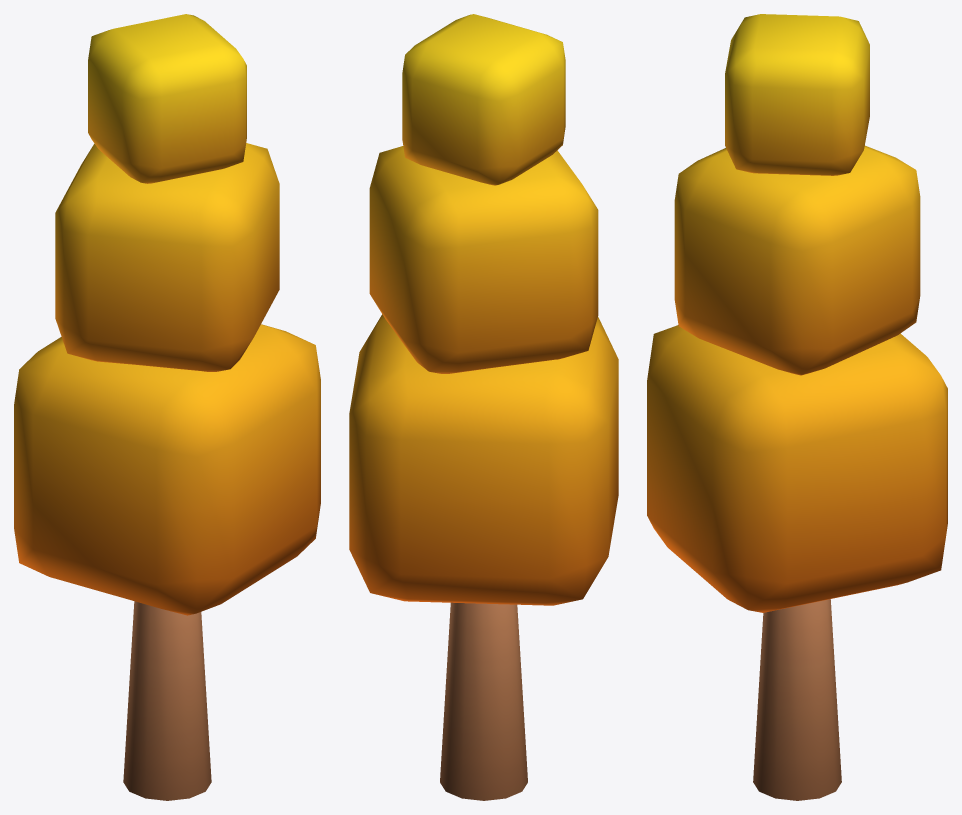
The model's file is lpb_tree_6_b.fbx.
The picture shows the model from 3 angles, left to right: view 1: azimuth 30°, elevation 25°; view 2: azimuth 150°, elevation 25°; view 3: azimuth 270°, elevation 25°; orthographic projection.
Parts seen in each view (by area): view 1: ap_tree_6.001; view 2: ap_tree_6.001; view 3: ap_tree_6.001.
Boxes of the visible parts, <box> form: ap_tree_6.001: <box>14,14,320,800</box>; ap_tree_6.001: <box>349,14,618,800</box>; ap_tree_6.001: <box>647,14,947,800</box>.
Size of the model in its own units: 185 by 508 by 185.
